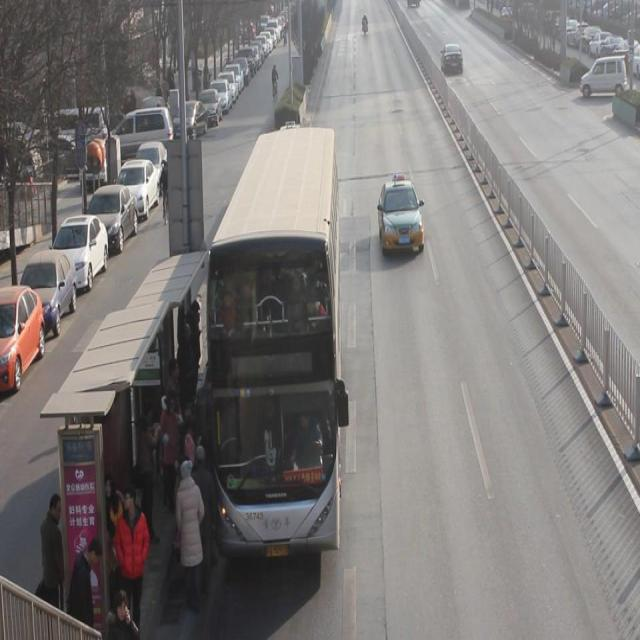car: (378, 177, 428, 260), (441, 44, 466, 78)
truck: (580, 57, 630, 103)
van: (208, 129, 343, 550)
